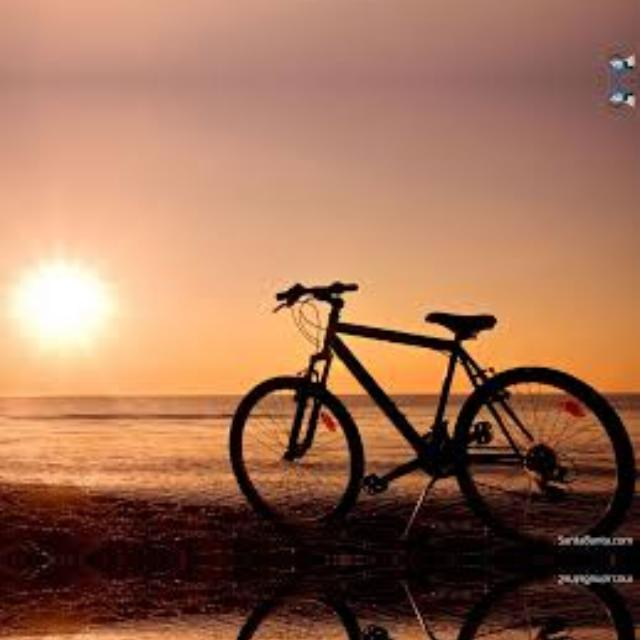obstacle: (180, 231, 640, 545), (180, 574, 640, 640)
